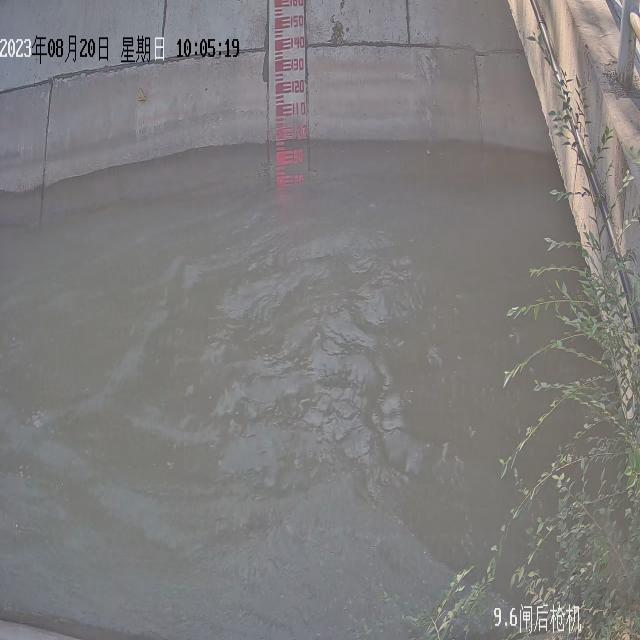ruler: (268, 0, 312, 181)
value: (290, 100, 308, 118), (291, 124, 308, 142), (289, 58, 306, 74), (287, 13, 305, 28), (290, 78, 306, 94), (290, 36, 307, 51), (292, 148, 304, 164), (286, 0, 305, 9)
